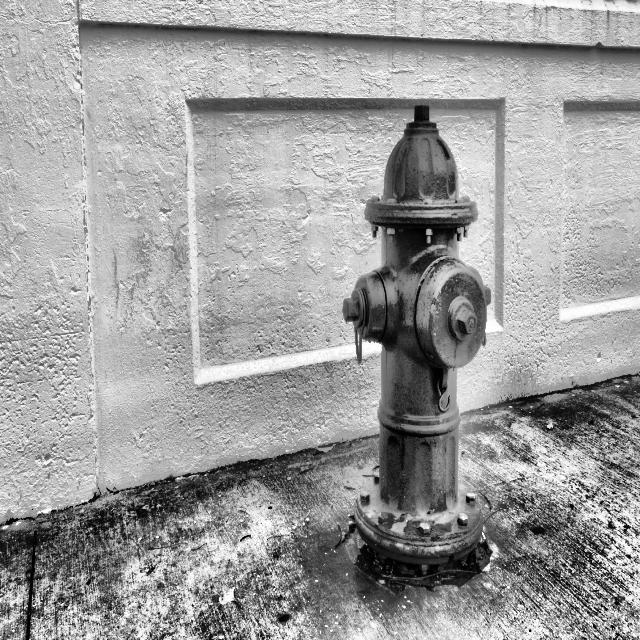fire hydrant: (320, 98, 526, 632)
